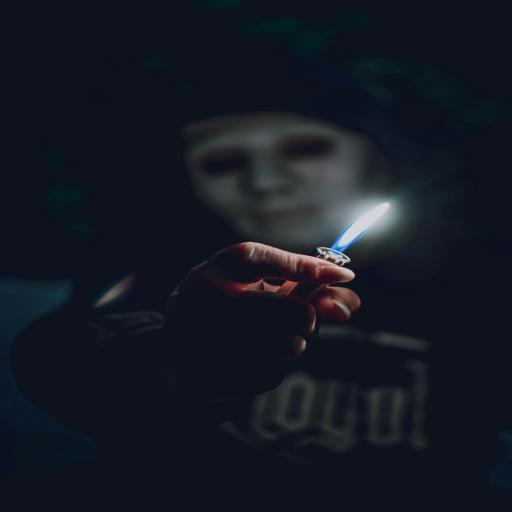fire: (330, 198, 400, 254)
lighter: (240, 211, 402, 307)
